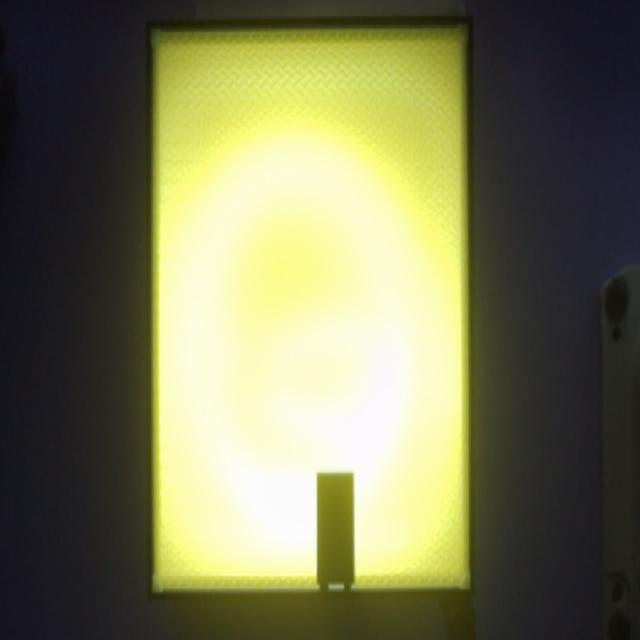bateria: (316, 472, 355, 593)
mesa: (146, 16, 476, 600)
